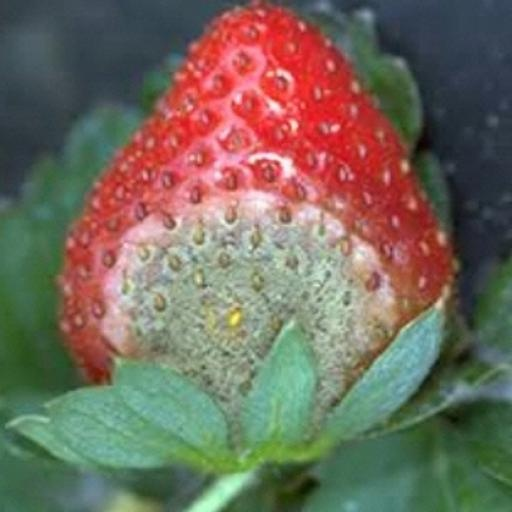Gray Mold: (101, 54, 420, 329)
